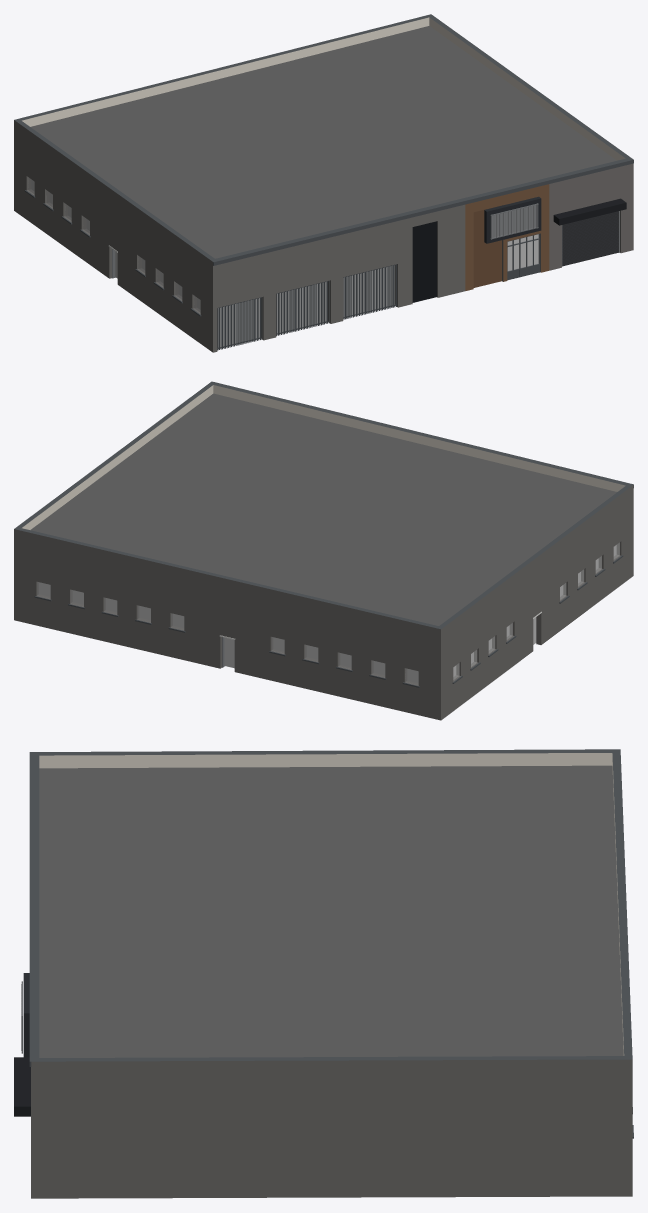
Rendered from exterior.glb.
The picture shows the model from 3 angles, top to bottom: view 1: azimuth 30°, elevation 25°; view 2: azimuth 150°, elevation 25°; view 3: azimuth 270°, elevation 25°; orthographic projection. The views are drawn at different scales.
Parts seen in each view (by area): view 1: roof, shell, storefront, shadow-proxy, relief-2, b5-dress-2, glazing, sign-bands; view 2: roof, shell, glazing, shadow-proxy, trim, relief-2; view 3: roof, shell, sign-bands, relief-2, b5-dress-2.
Boxes of the visible parts, box(x1,y1,x2,y2) form: roof: box(31, 26, 616, 258); shell: box(14, 14, 633, 352); storefront: box(108, 205, 619, 350); shadow-proxy: box(31, 180, 537, 347); relief-2: box(213, 159, 633, 265); b5-dress-2: box(484, 196, 541, 243); glazing: box(28, 177, 538, 312); sign-bands: box(553, 198, 626, 225); roof: box(30, 393, 616, 625); shell: box(14, 382, 633, 720); glazing: box(37, 542, 619, 684); shadow-proxy: box(39, 545, 616, 682); trim: box(34, 555, 623, 687); relief-2: box(211, 381, 633, 487); roof: box(39, 765, 623, 1057); shell: box(31, 749, 632, 1198); sign-bands: box(14, 1057, 30, 1116); relief-2: box(29, 752, 31, 1066); b5-dress-2: box(21, 973, 29, 1057).
Size of the model in its own units: 30.46 by 6.22 by 25.5.
